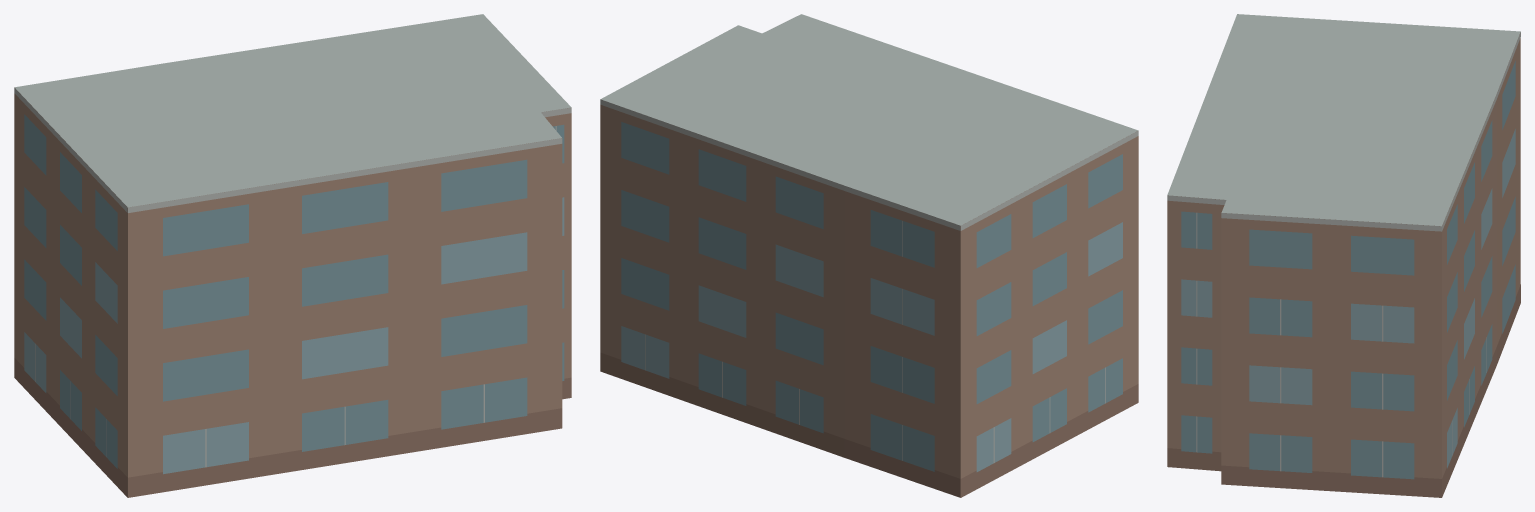
The model's file is survey-upis-32942901.glb.
3 views of the same model, side by side, from view 1: azimuth 30°, elevation 25°; view 2: azimuth 150°, elevation 25°; view 3: azimuth 270°, elevation 25° (orthographic). The views are drawn at different scales.
Visible parts, largest first — view 1: survey-upis-32942901.tmp; view 2: survey-upis-32942901.tmp; view 3: survey-upis-32942901.tmp.
Part boxes in pixels (left/top/right/bottom): survey-upis-32942901.tmp: left=14, top=14, right=571, bottom=497; survey-upis-32942901.tmp: left=600, top=14, right=1138, bottom=497; survey-upis-32942901.tmp: left=1167, top=14, right=1520, bottom=497.
Bounding box in the file's own units: 20.78 × 12.4 × 14.64.
